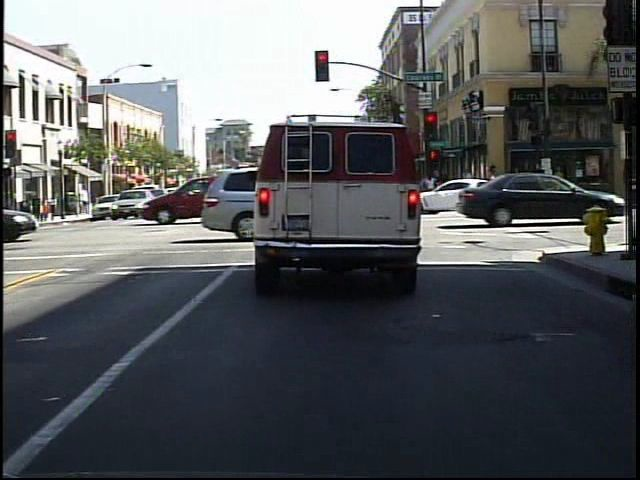person: (528, 158, 549, 208), (508, 163, 529, 207)
